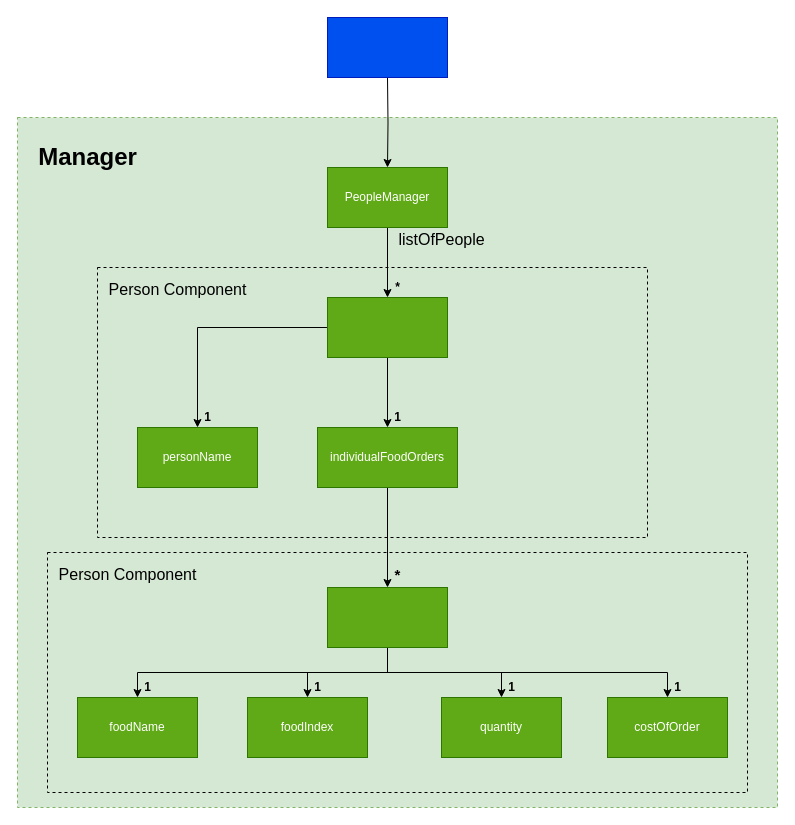
The diagram is 795 pixels wide and 825 high, and some of its shapes have lost their labels. The centre of each missing label's shape, as x and y in pixels:
"Logical" belongs at point 387,47.
"Order" belongs at point 387,617.
"Person" belongs at point 387,327.
